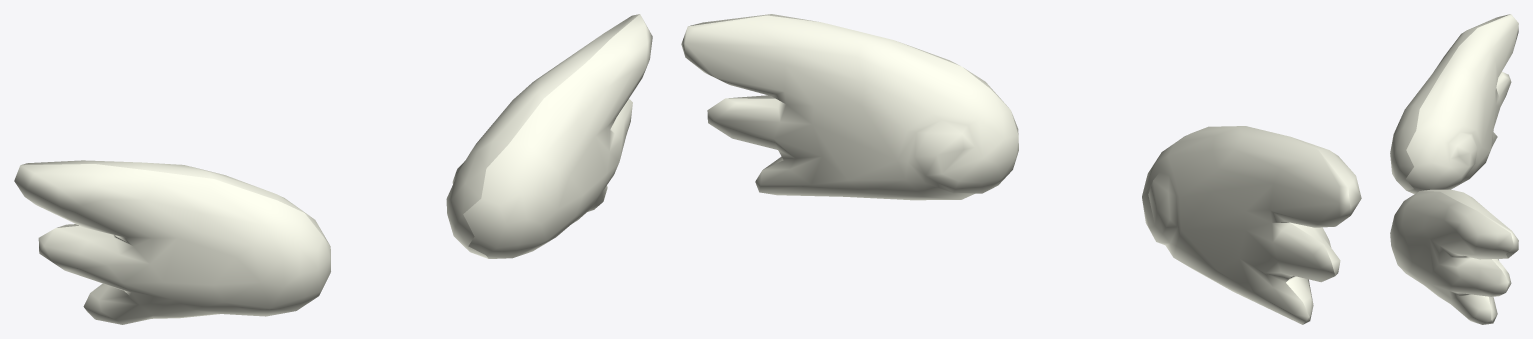
File: Suzysaur_CuteWings_Spine2.fbx
The picture shows the model from 3 angles, left to right: view 1: azimuth 30°, elevation 25°; view 2: azimuth 150°, elevation 25°; view 3: azimuth 270°, elevation 25°; orthographic projection. The views are drawn at different scales.
Visible parts, largest first — view 1: Wings1; view 2: Wings1; view 3: Wings1.
Boxes of the visible parts, x1,y1,x2,y2 form: Wings1: [14, 14, 652, 324]; Wings1: [681, 14, 1361, 324]; Wings1: [1390, 14, 1518, 324].
Bounding box in the file's own units: 7.13 × 1.77 × 1.75.
